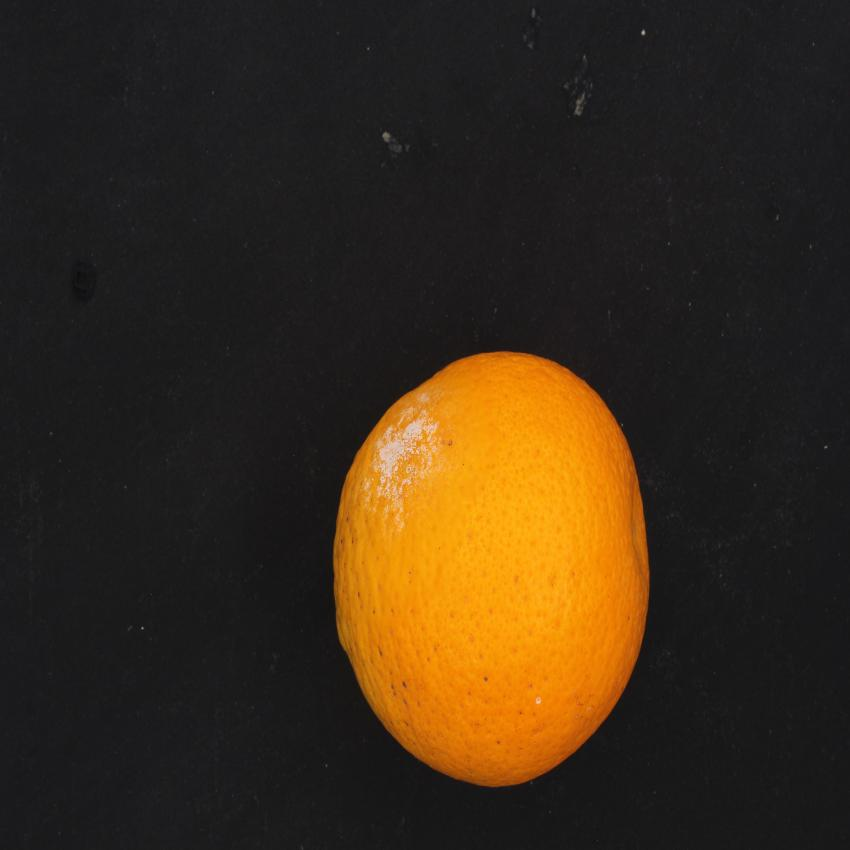Mal estado: (317, 342, 662, 802)
